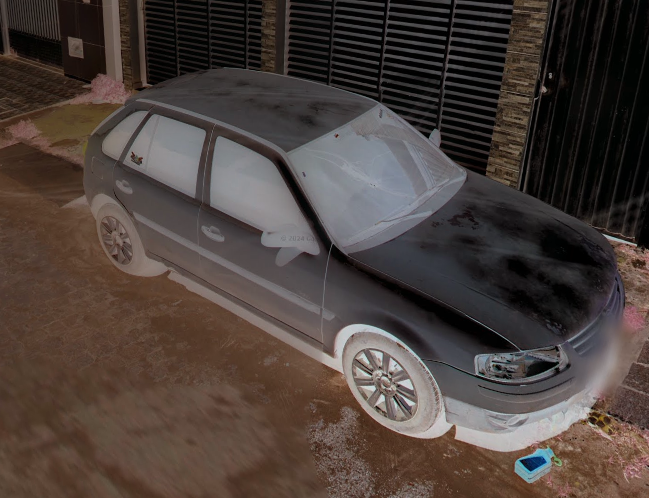car: (84, 64, 628, 446)
